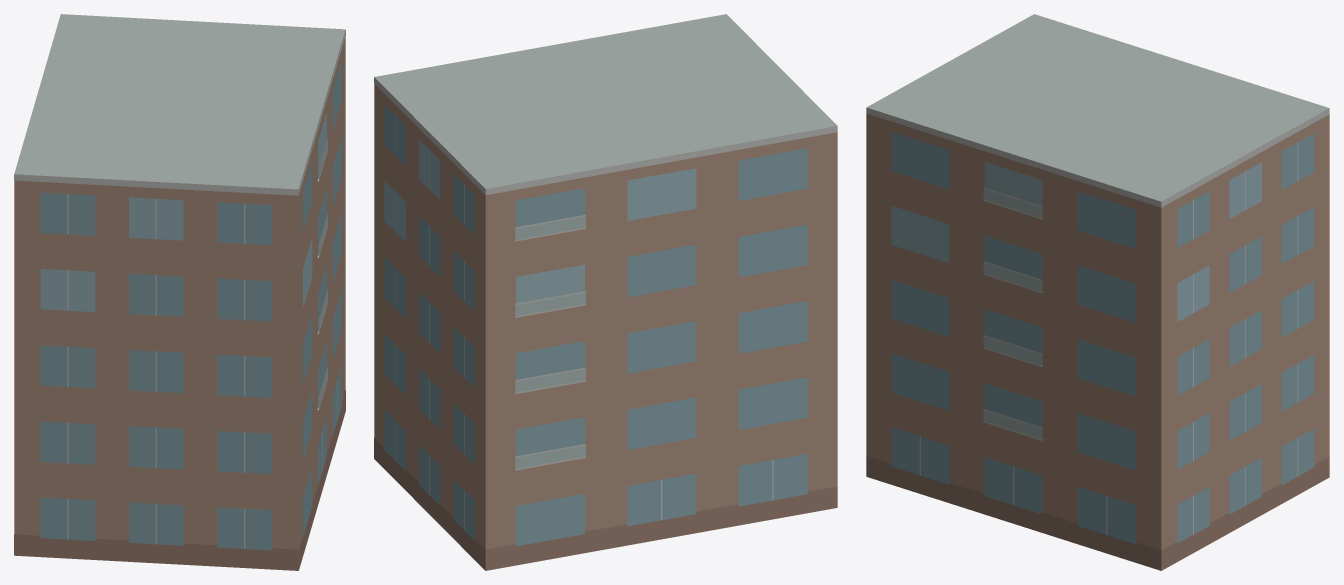
Rendered from survey-upis-32704573.glb.
3 renders of one model, left to right at view 1: azimuth 30°, elevation 25°; view 2: azimuth 150°, elevation 25°; view 3: azimuth 270°, elevation 25°, orthographic. The views are drawn at different scales.
Parts seen in each view (by area): view 1: survey-upis-32704573.tmp; view 2: survey-upis-32704573.tmp; view 3: survey-upis-32704573.tmp.
Part boxes in pixels (x1,y1,x2,y2): survey-upis-32704573.tmp: (14, 14, 345, 570); survey-upis-32704573.tmp: (374, 14, 837, 570); survey-upis-32704573.tmp: (866, 14, 1329, 570).
Bounding box in the file's own units: 16.36 × 15 × 17.07.
